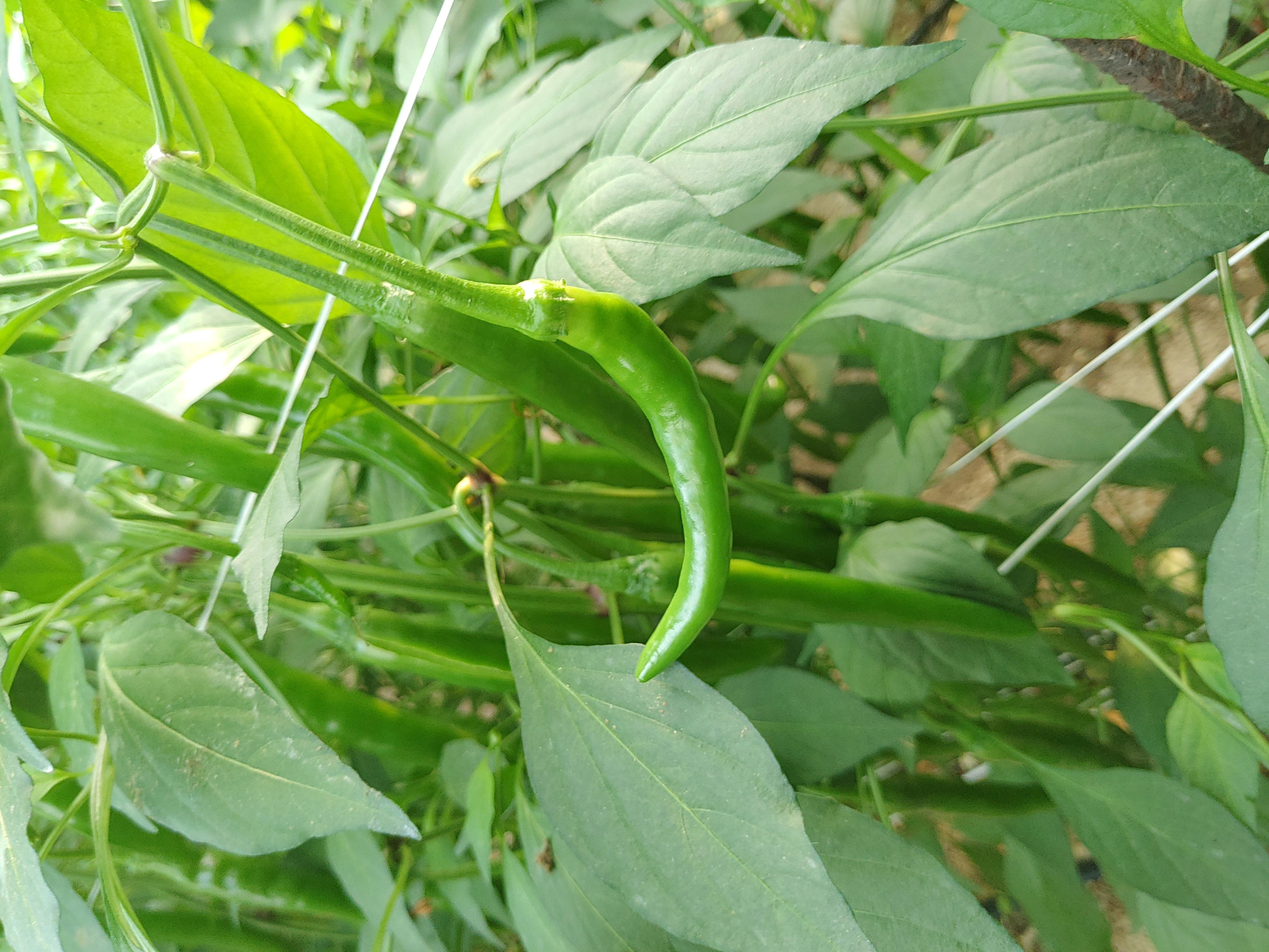Buah Cabai Sehat: (511, 281, 733, 670)
Daun Cabai Sehat: (499, 616, 874, 952), (801, 115, 1269, 343), (94, 608, 424, 863), (552, 155, 802, 311)
